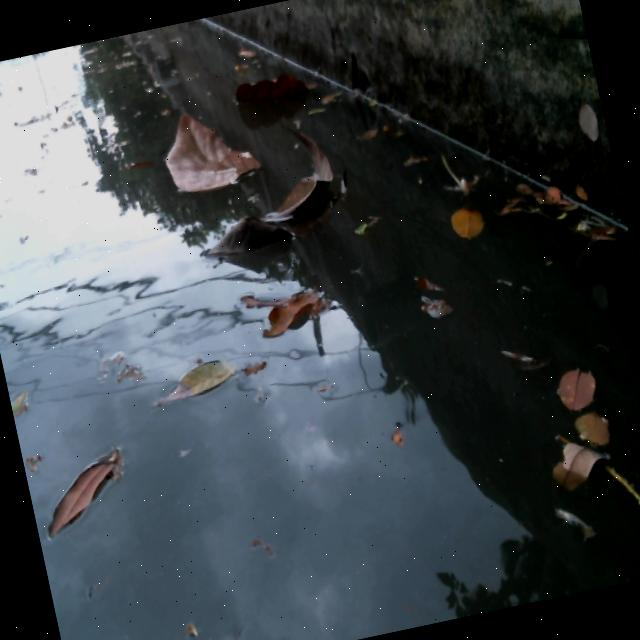Big-leaf: (181, 117, 360, 281), (145, 109, 266, 209), (230, 270, 354, 346), (222, 50, 334, 127)
Small-leaf: (23, 440, 154, 552), (141, 344, 264, 429), (537, 423, 613, 517), (399, 259, 466, 340), (541, 352, 605, 417), (443, 196, 502, 252), (570, 400, 625, 452)
